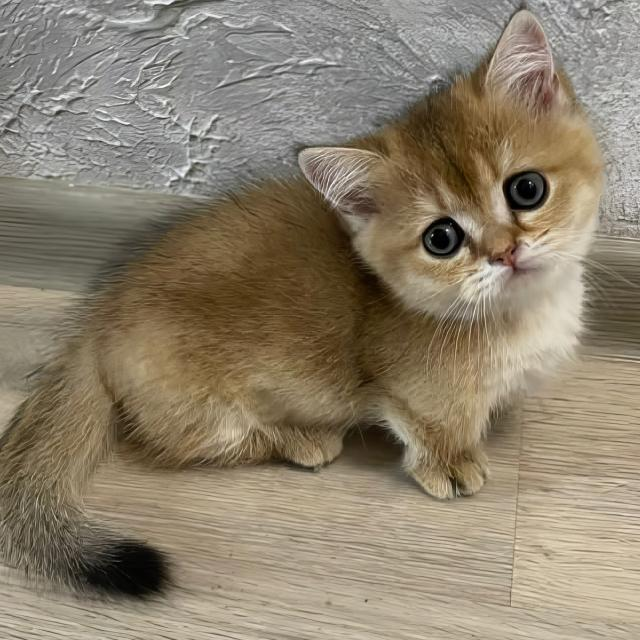Munchkin: (0, 0, 609, 604)
